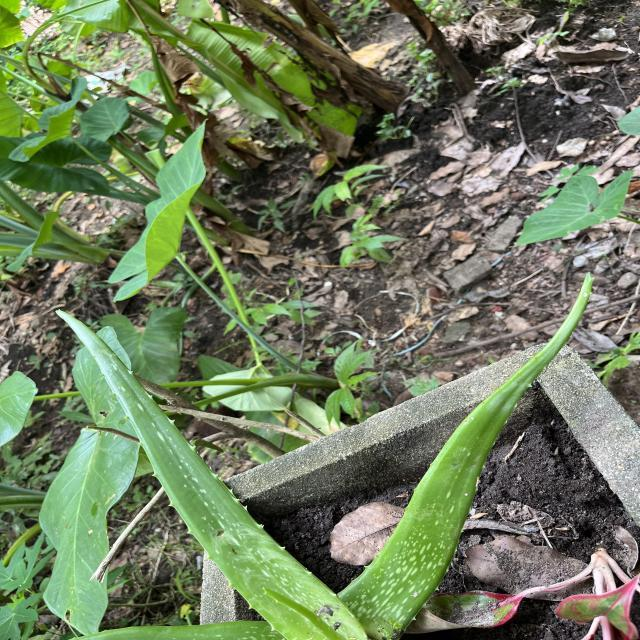Aloe vera: (49, 303, 371, 640), (339, 270, 609, 637)
